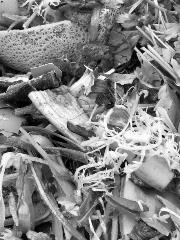organic: (120, 125, 168, 155)
